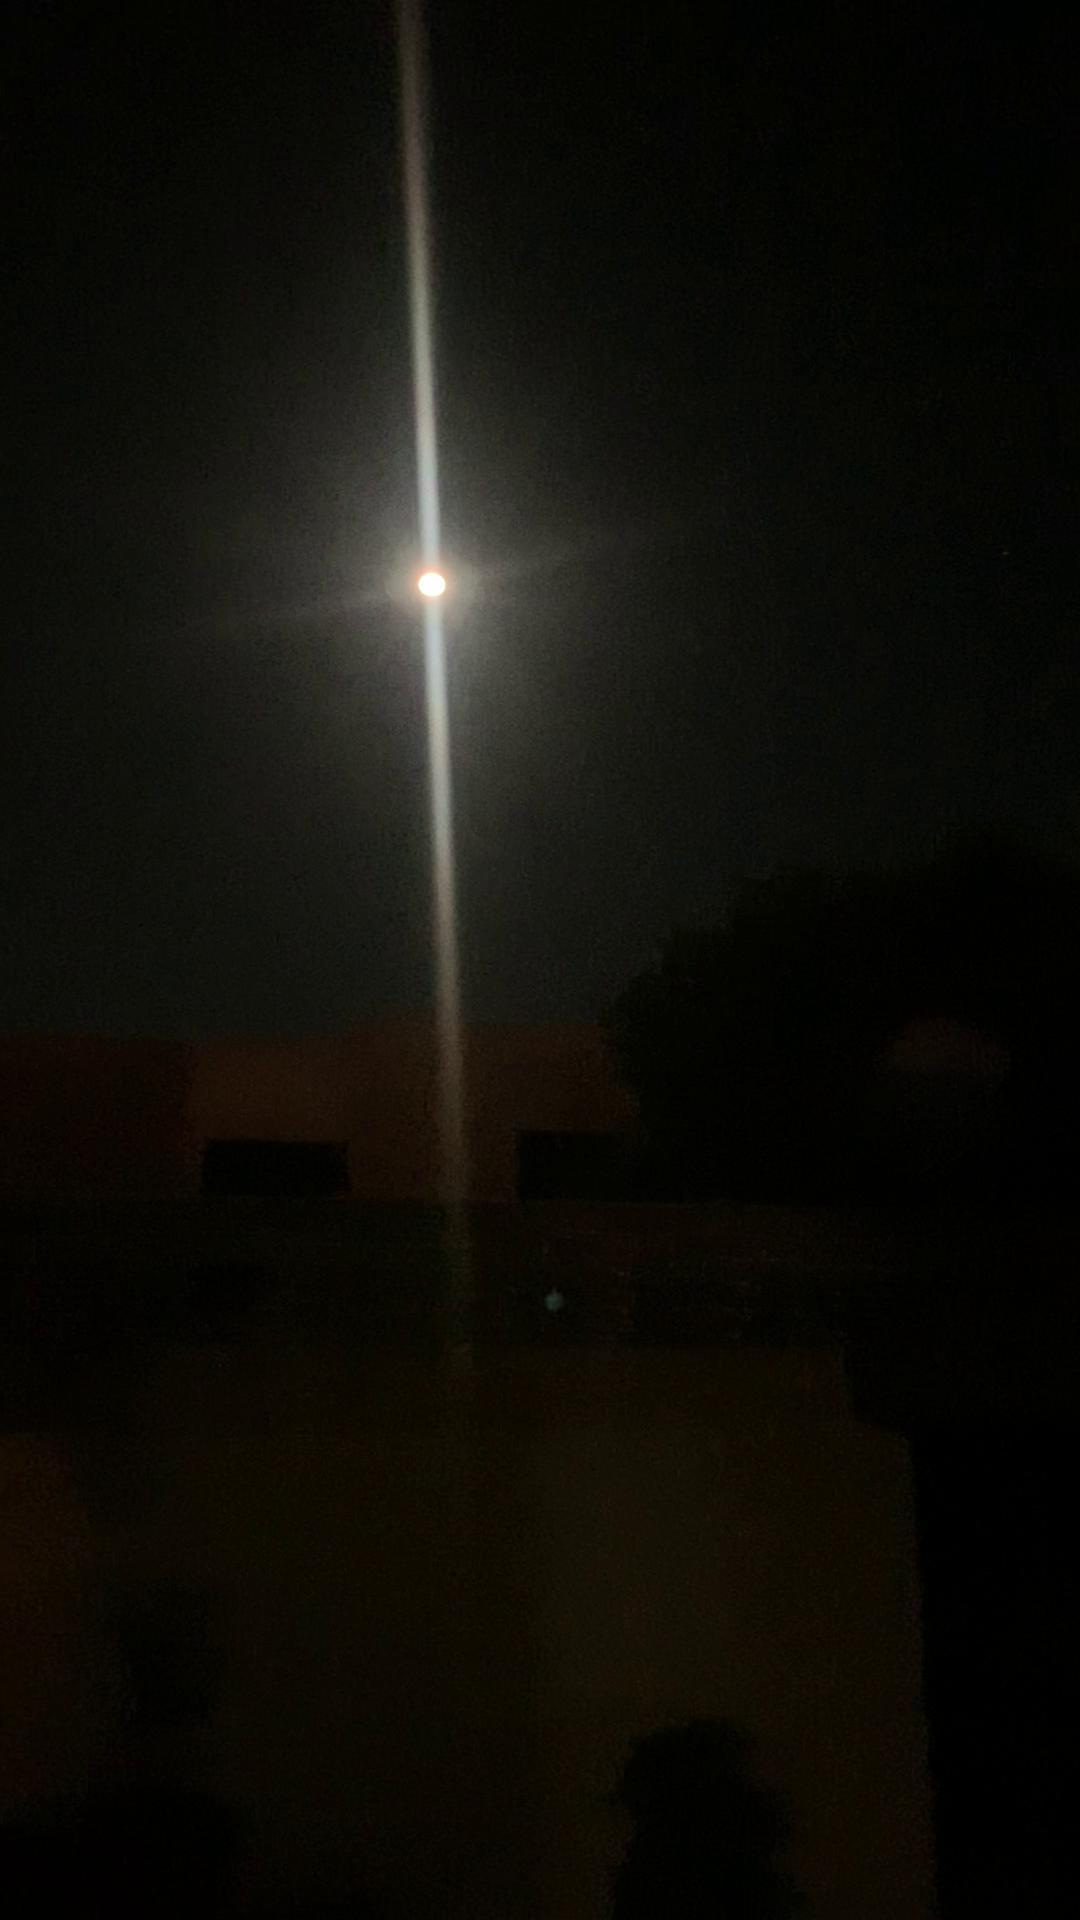moon: (402, 547, 477, 626)
